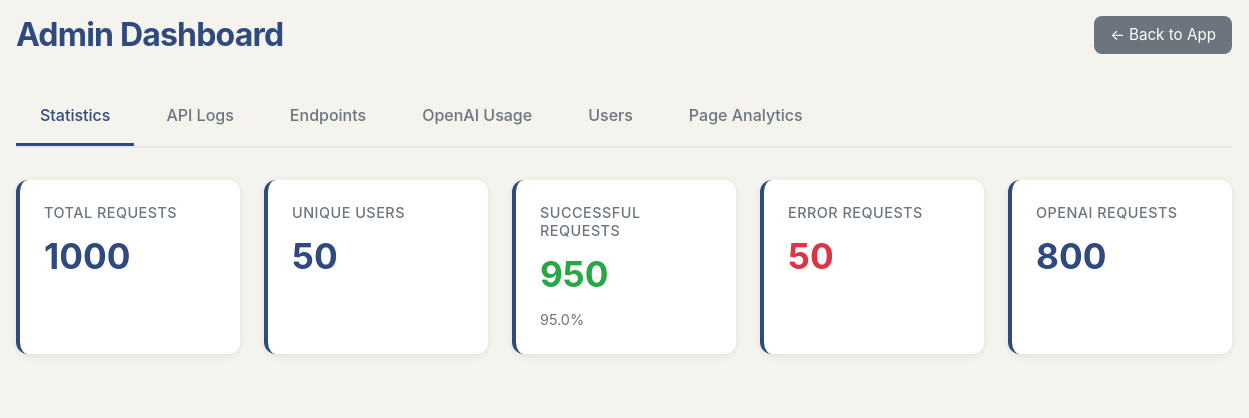
Test: AdminDashboard.vue › Endpoints Tab › switches to endpoints tab and displays endpoint stats
Click the button "Endpoints" at [328, 116], box [266,87,390,146]
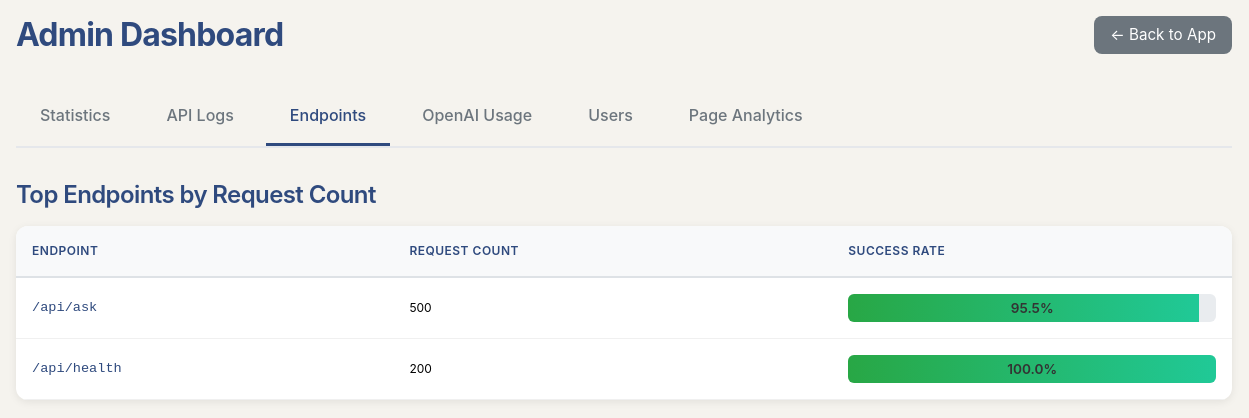
expect the text "/api/ask" is shown: met, box [16,277,393,338]
expect the text "500" is shown: met, box [393,277,832,338]
expect the text "95.5%" is shown: met, box [1011,300,1054,316]
